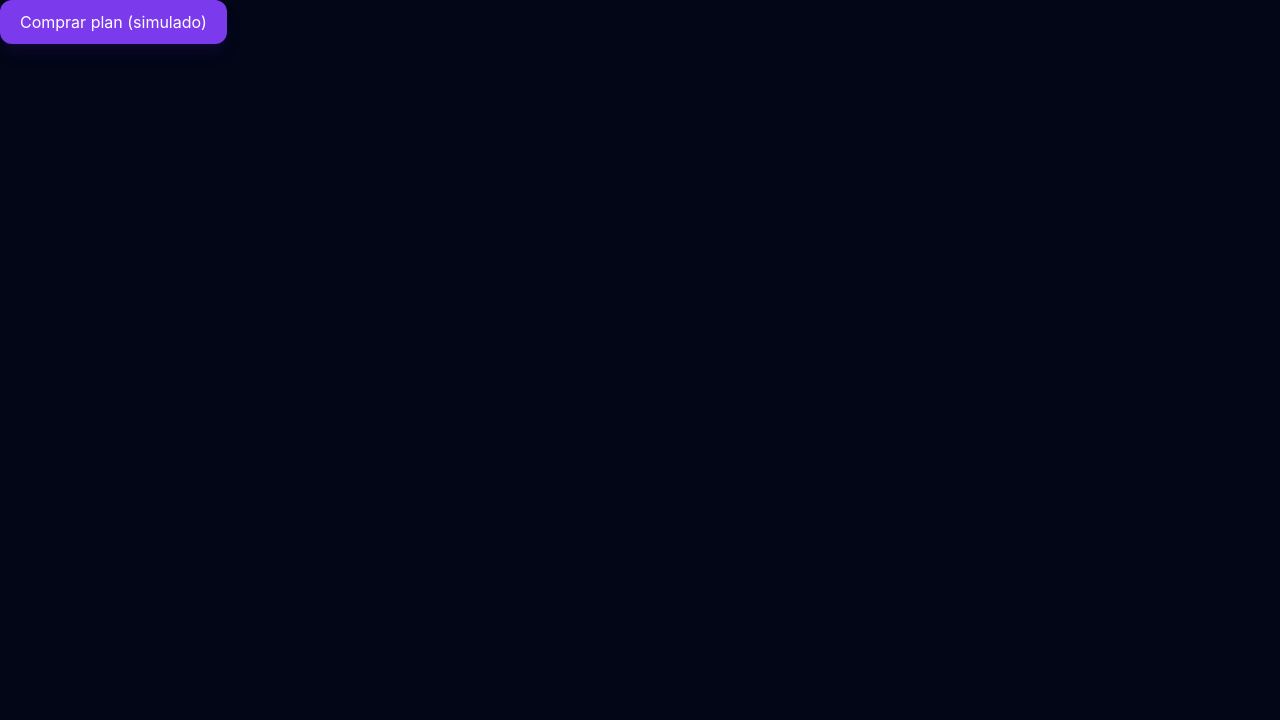
simulated plan purchase › requires a new confirmation after the connection comes back
The image size is (1280, 720).
Later steps or results of the test are not shown.
Click the button "Comprar plan (simulado)": (113, 22) top-left (0, 0), bottom-right (227, 44)
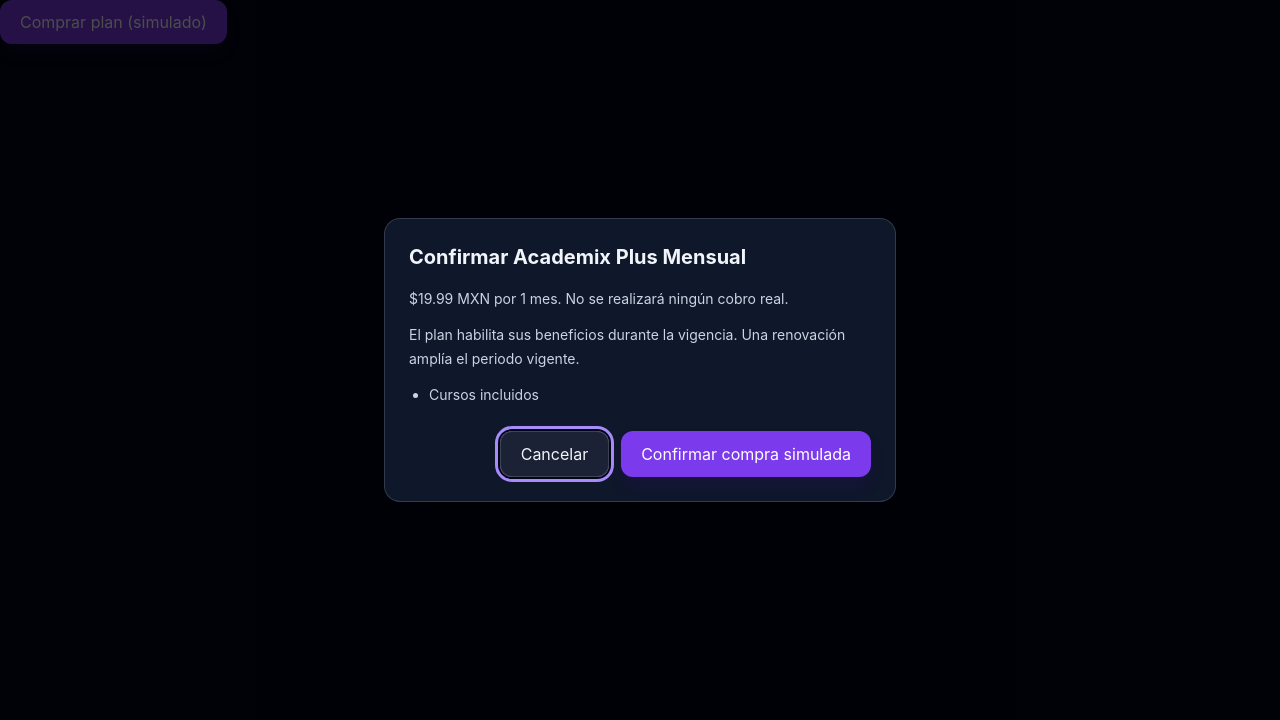
Check: the button "Confirmar compra simulada" is enabled, box top-left (621, 431), bottom-right (871, 477)
